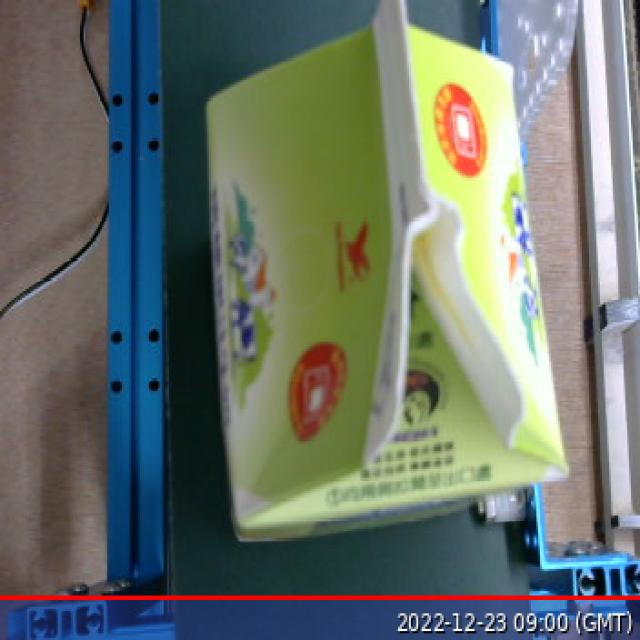non_white_jug: (195, 0, 578, 525)
